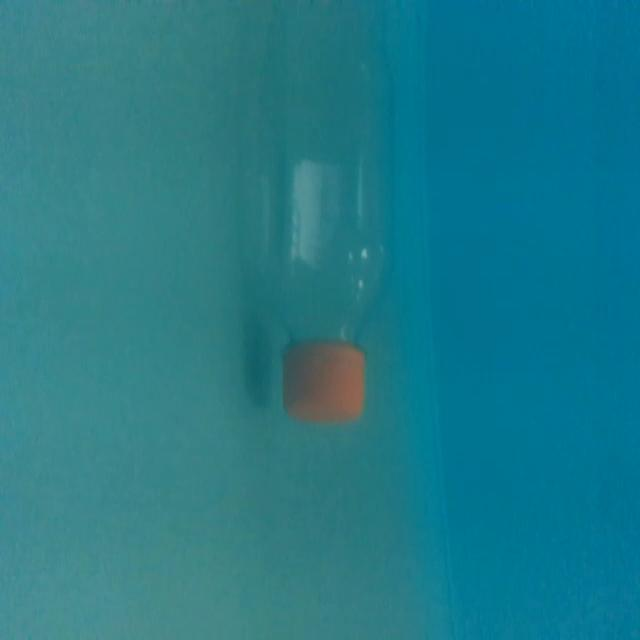plastic bottle: (242, 0, 442, 434)
